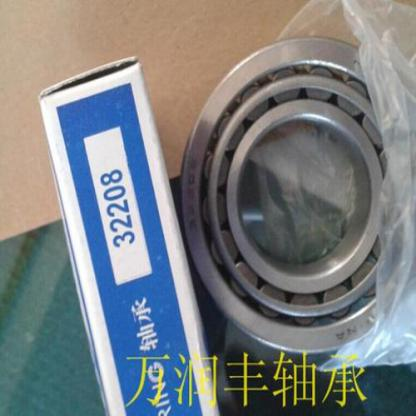FOD: (171, 34, 415, 361)
